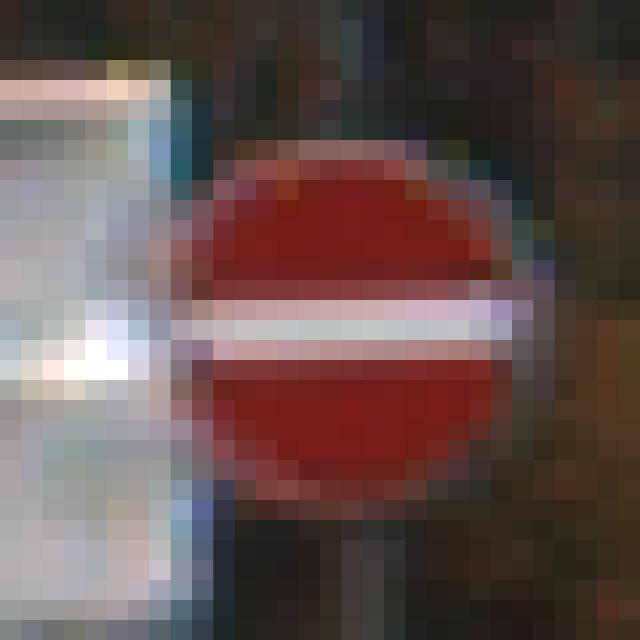No Entry: (129, 121, 534, 541)
